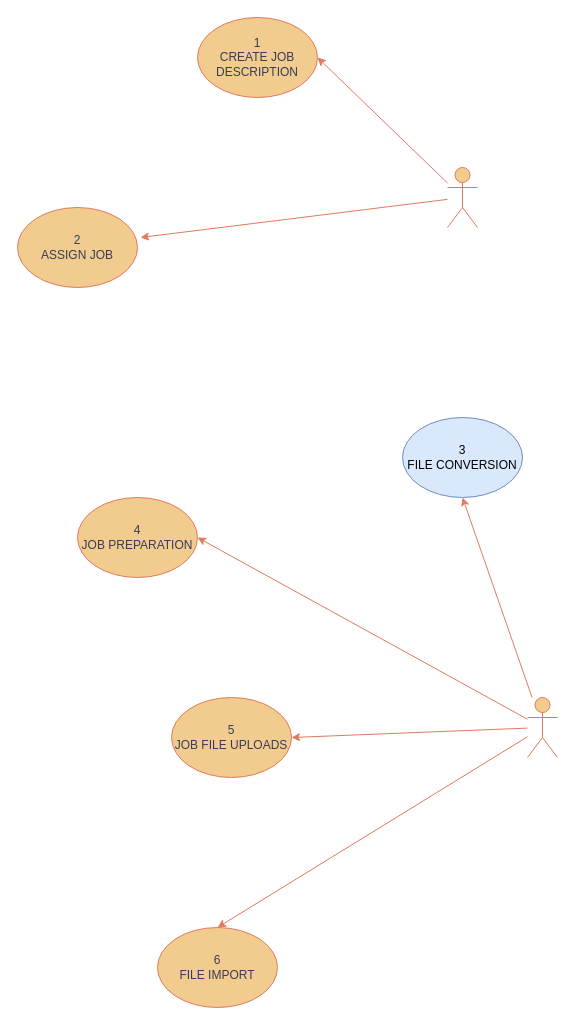
The diagram is 587 pixels wide and 1025 high, and some of its shapes have lost their labels. Here are the shapes that lost their labels. From the top down, the centre of each, then its label:
point 462,197: MEDS Admin
point 542,727: Processor
